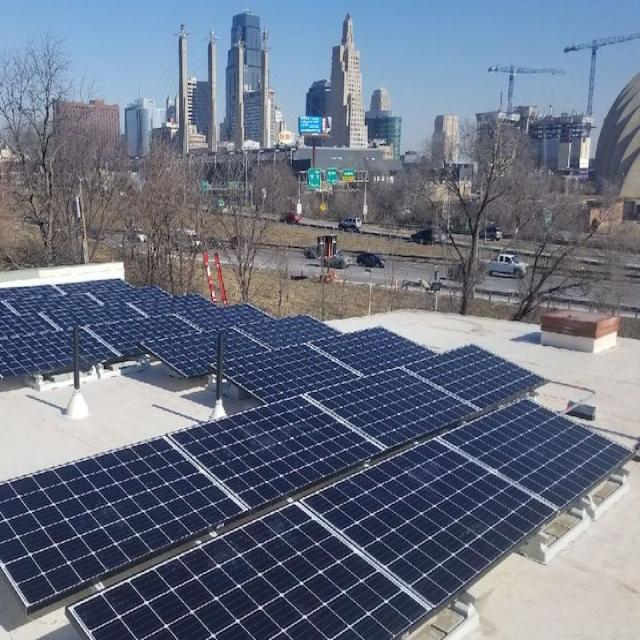clean-solar-panel: (0, 328, 542, 608), (71, 398, 630, 637)
